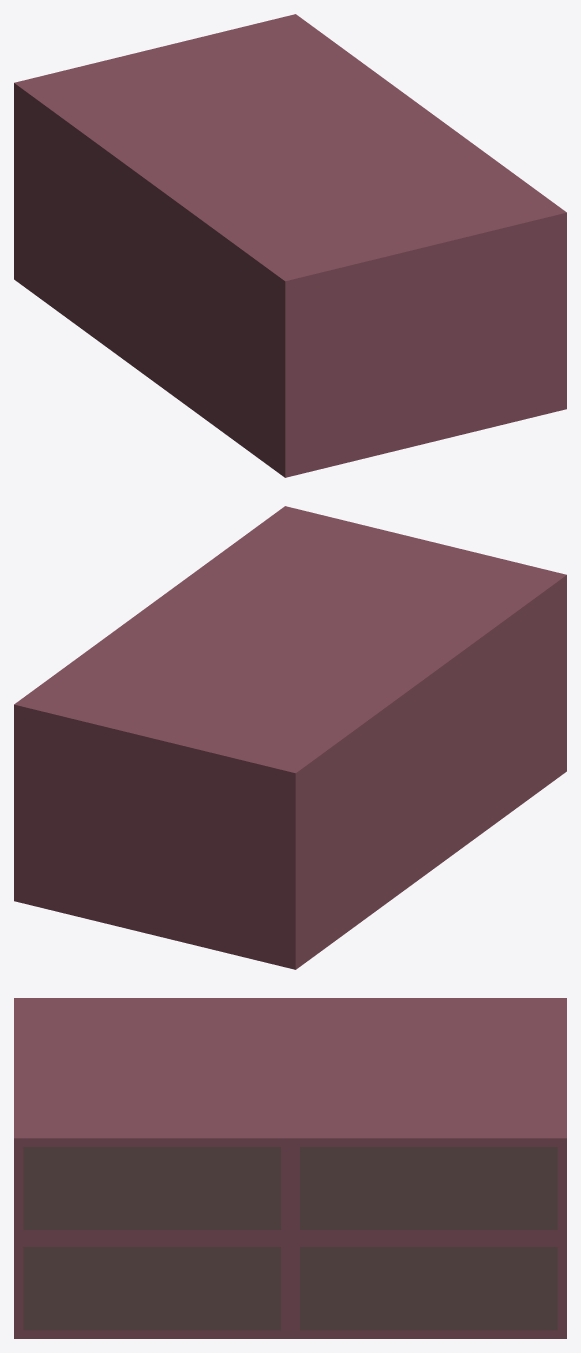
File: Res01_Kitchen_HangBox1.fbx
3 renders of one model, top to bottom at view 1: azimuth 30°, elevation 25°; view 2: azimuth 150°, elevation 25°; view 3: azimuth 270°, elevation 25°, orthographic.
Visible parts, largest first — view 1: Res01_Kitchen_HangBox1; view 2: Res01_Kitchen_HangBox1; view 3: Res01_Kitchen_HangBox1.
Boxes of the visible parts, <box> form: Res01_Kitchen_HangBox1: <box>14,14,566,477</box>; Res01_Kitchen_HangBox1: <box>14,506,566,969</box>; Res01_Kitchen_HangBox1: <box>14,998,566,1338</box>.
Bounding box in the file's own units: 120 × 80 × 200.
